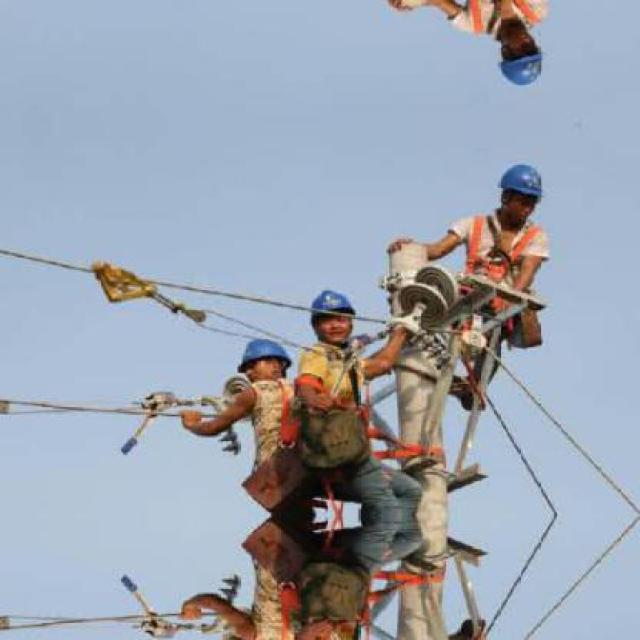helmet: (490, 156, 547, 224), (490, 24, 547, 92), (306, 284, 360, 344), (236, 336, 293, 390)
